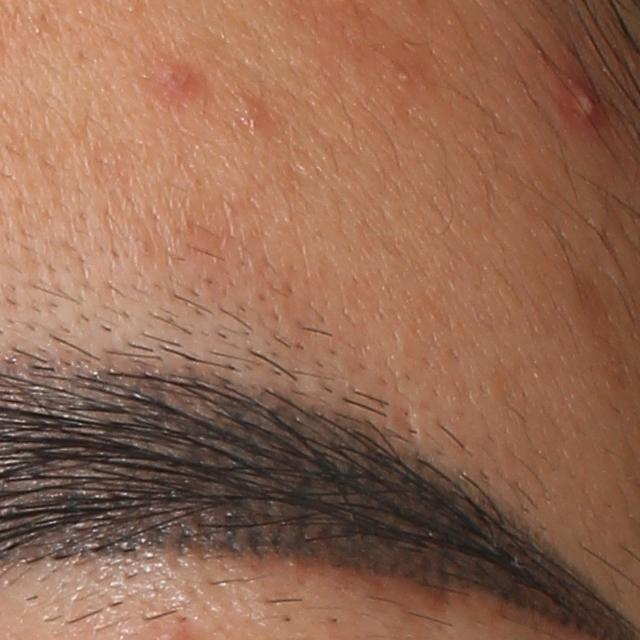papule: (146, 66, 199, 100)
pustule: (559, 59, 611, 127)
